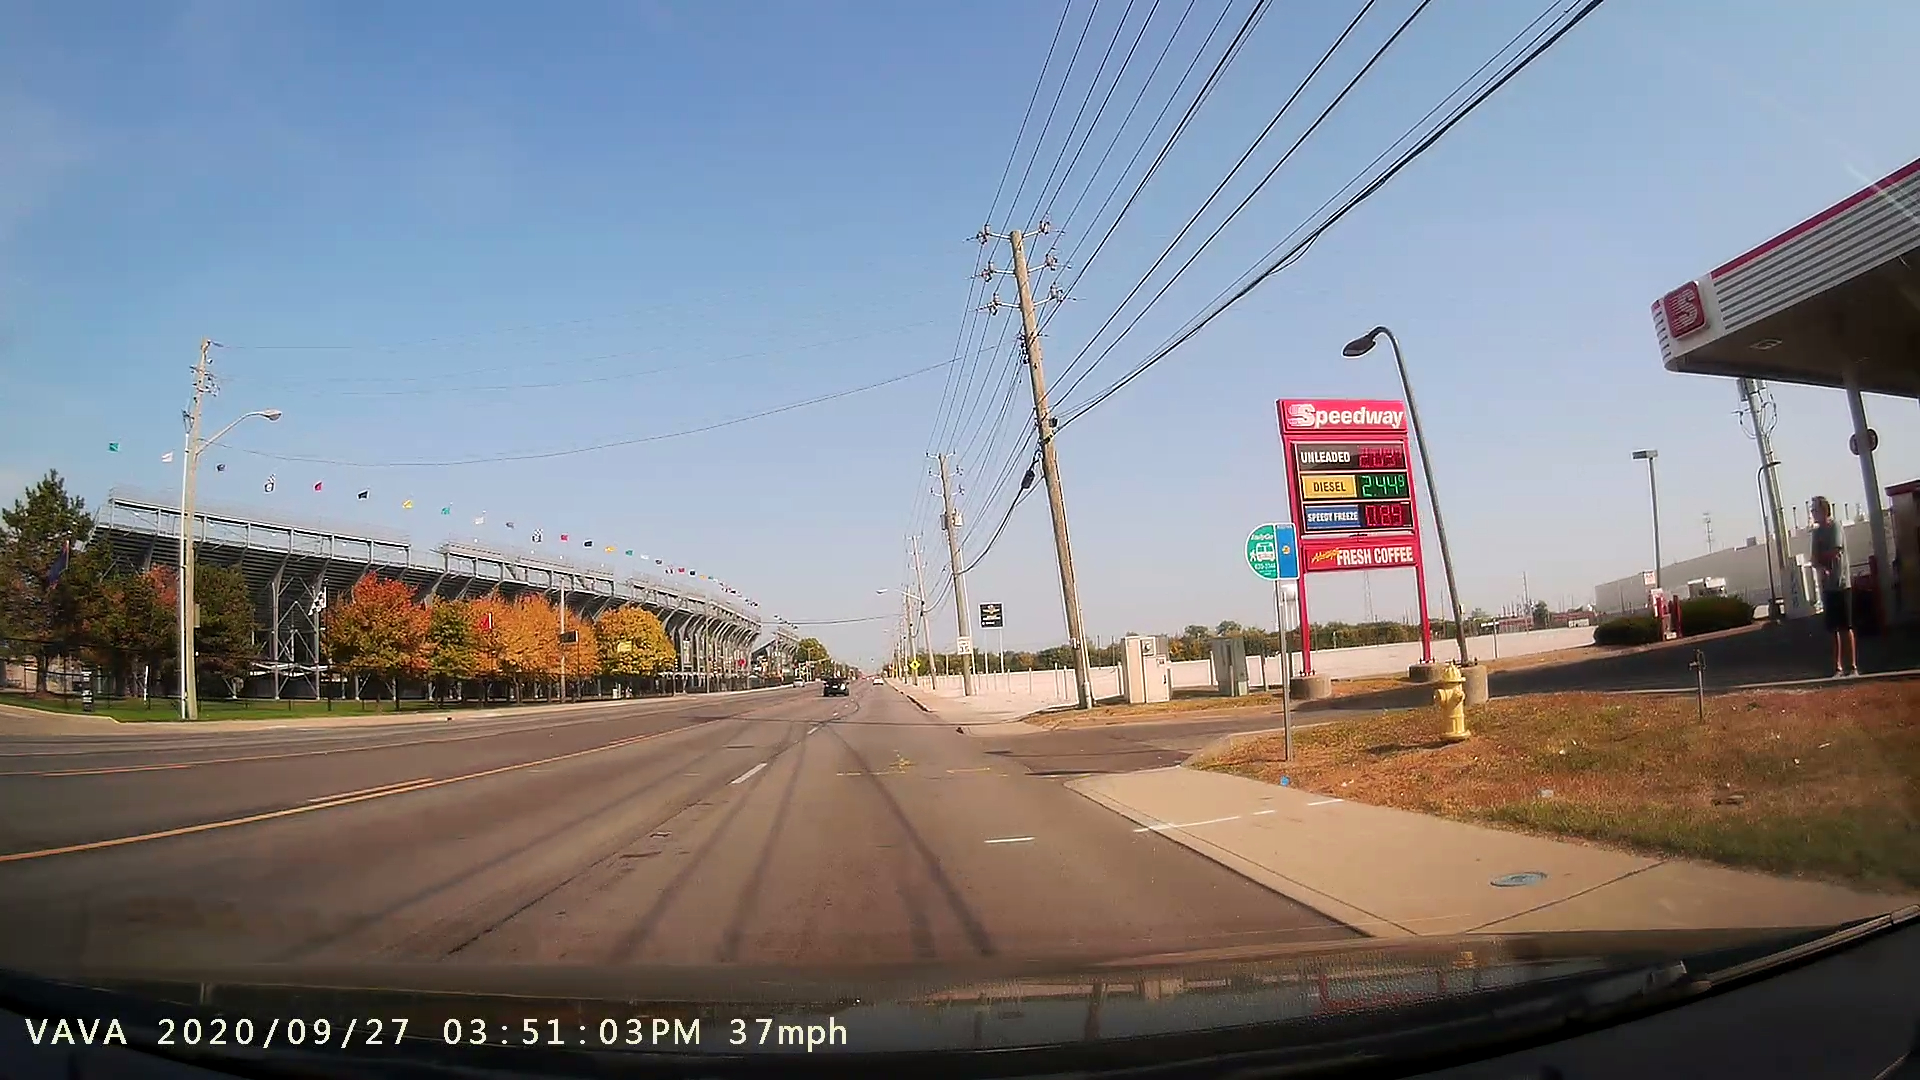fire_hydrant: (1427, 651, 1487, 750)
